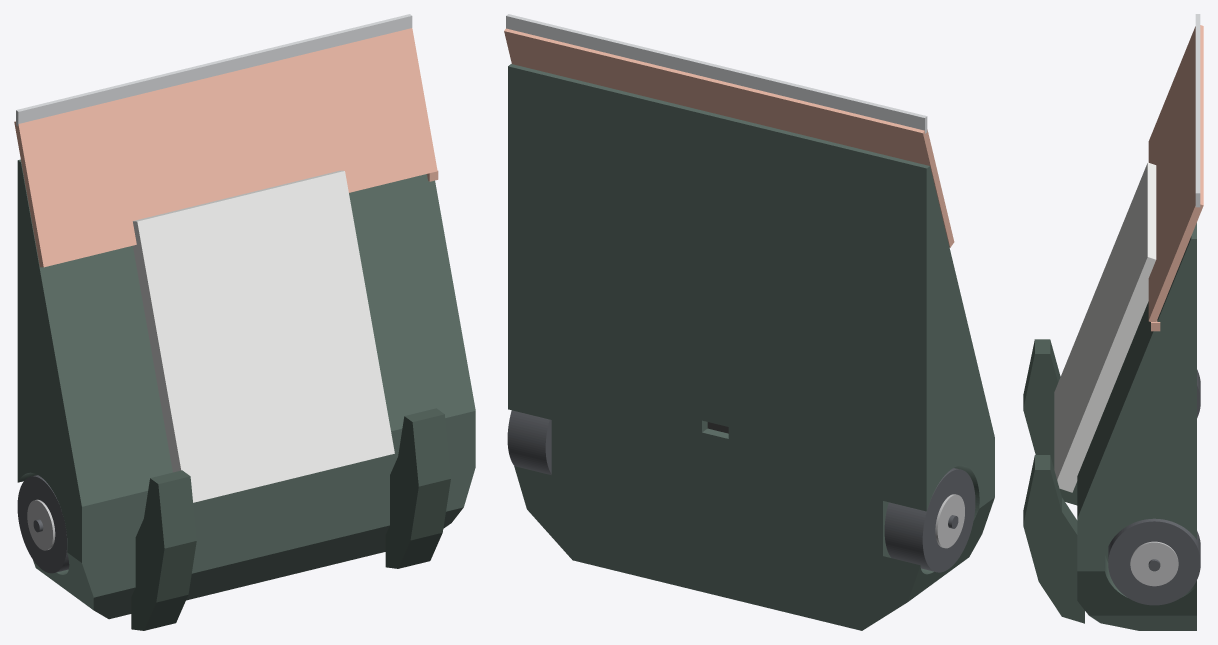
Rendered from duck.glb.
3 renders of one model, left to right at view 1: azimuth 30°, elevation 25°; view 2: azimuth 150°, elevation 25°; view 3: azimuth 270°, elevation 25°, orthographic. The views are drawn at different scales.
Visible parts, largest first — view 1: chassis, flipper, front_plate, hook_r, hook_l, front_lip, wheel_r0, dt_hub_wheel_r0; view 2: chassis, front_plate, front_lip, wheel_r0, wheel_l0, dt_hub_wheel_r0; view 3: chassis, flipper, front_plate, hook_l, wheel_l0, hook_r, dt_hub_wheel_l0, front_lip.
Part boxes in pixels (bbox=[...]): chassis: bbox=[17, 159, 475, 619]; flipper: bbox=[132, 170, 394, 502]; front_plate: bbox=[14, 28, 438, 267]; hook_r: bbox=[131, 470, 196, 630]; hook_l: bbox=[385, 408, 450, 568]; front_lip: bbox=[16, 14, 412, 126]; wheel_r0: bbox=[17, 475, 69, 573]; dt_hub_wheel_r0: bbox=[27, 499, 55, 550]; chassis: bbox=[508, 64, 994, 630]; front_plate: bbox=[504, 28, 954, 247]; front_lip: bbox=[506, 14, 927, 133]; wheel_r0: bbox=[884, 468, 975, 572]; wheel_l0: bbox=[507, 410, 551, 474]; dt_hub_wheel_r0: bbox=[935, 494, 964, 548]; chassis: bbox=[1077, 223, 1196, 630]; flipper: bbox=[1054, 162, 1156, 492]; front_plate: bbox=[1148, 25, 1203, 331]; hook_l: bbox=[1023, 455, 1084, 623]; wheel_l0: bbox=[1108, 518, 1200, 605]; hook_r: bbox=[1023, 339, 1077, 505]; dt_hub_wheel_l0: bbox=[1130, 541, 1178, 586]; front_lip: bbox=[1195, 14, 1200, 207].
Bounding box in the file's own units: 112 × 133 × 46.75.
